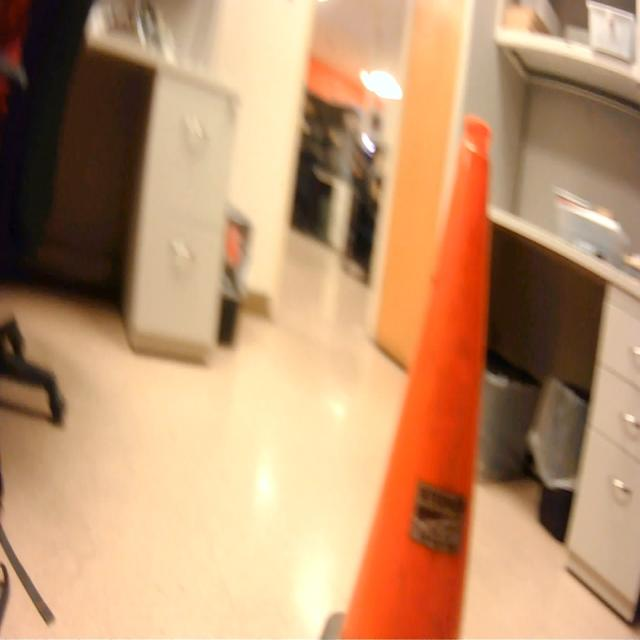traffic cone: (318, 109, 500, 640)
